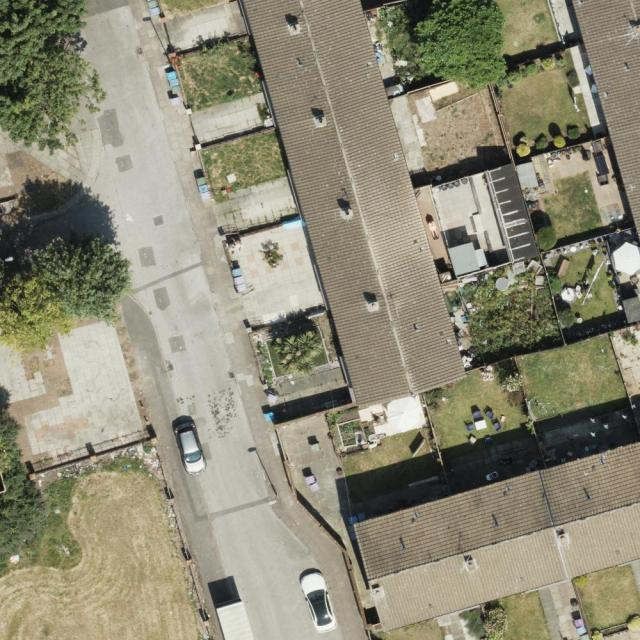roof: (239, 0, 469, 415), (352, 442, 640, 634), (572, 0, 640, 248)
